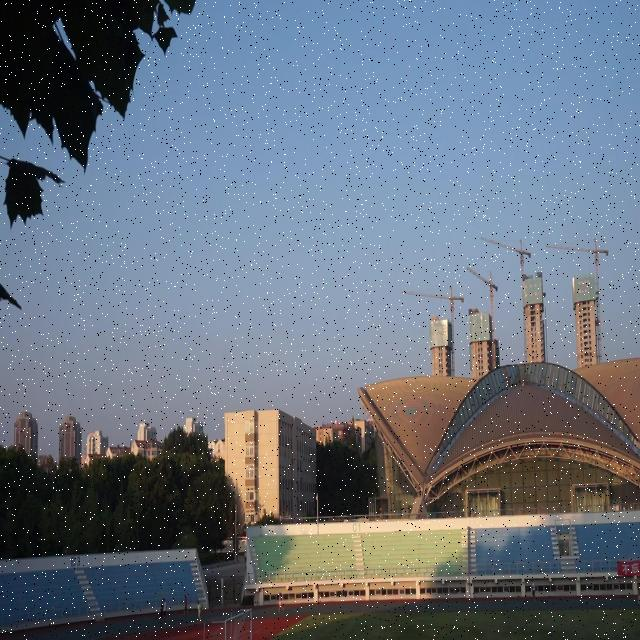UAV: (503, 373, 512, 386)
